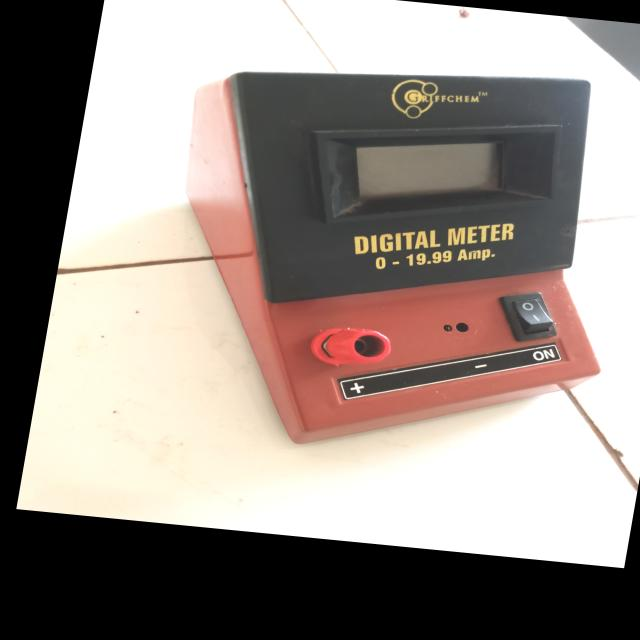Digital Ammeter: (127, 36, 640, 481)
